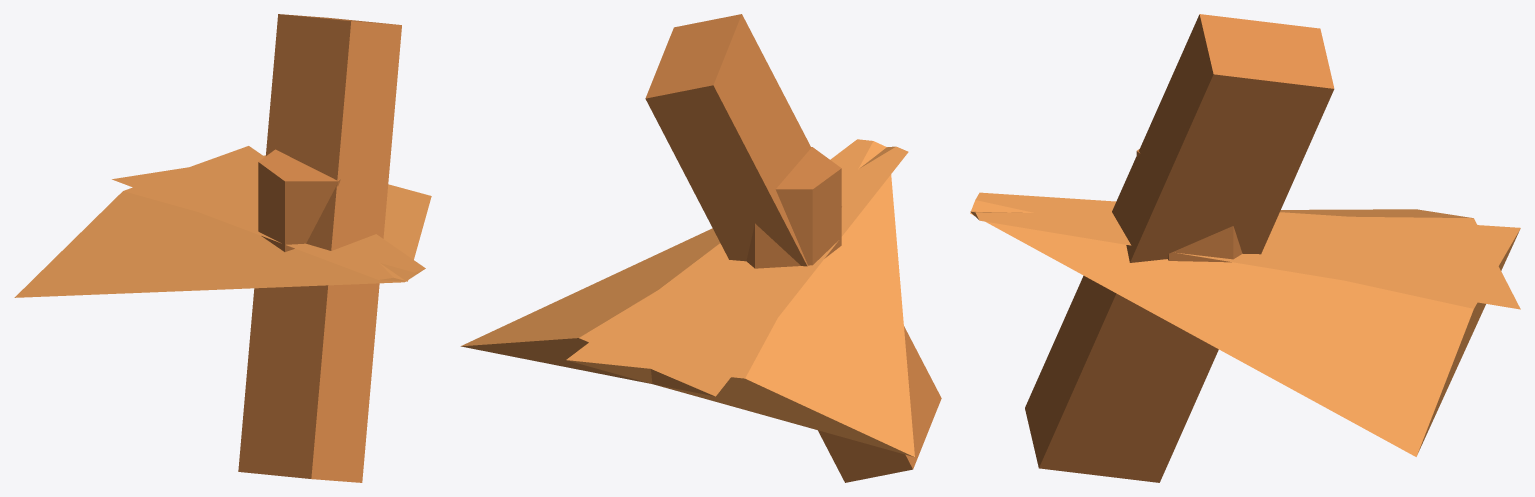
The model's file is sig_deer.glb.
3 renders of one model, left to right at view 1: azimuth 30°, elevation 25°; view 2: azimuth 150°, elevation 25°; view 3: azimuth 270°, elevation 25°, orthographic. The views are drawn at different scales.
Parts seen in each view (by area): view 1: Cube, Cone, Cone.001, Cylinder; view 2: Cone, Cube, Cone.001, Cylinder; view 3: Cube, Cone.001, Cone, Cylinder.
Part boxes in pixels (left/top/right/bottom): Cube: left=238, top=14, right=401, bottom=482; Cone: left=14, top=146, right=425, bottom=297; Cone.001: left=112, top=155, right=431, bottom=281; Cylinder: left=258, top=149, right=340, bottom=251; Cone: left=566, top=139, right=914, bottom=457; Cube: left=645, top=14, right=941, bottom=482; Cone.001: left=460, top=146, right=908, bottom=396; Cylinder: left=746, top=147, right=841, bottom=268; Cube: left=1025, top=14, right=1334, bottom=482; Cone.001: left=970, top=192, right=1520, bottom=456; Cone: left=970, top=209, right=1520, bottom=309; Cylinder: left=1136, top=149, right=1242, bottom=262.
Bounding box in the file's own units: 0.2727 × 0.2643 × 0.2559.
